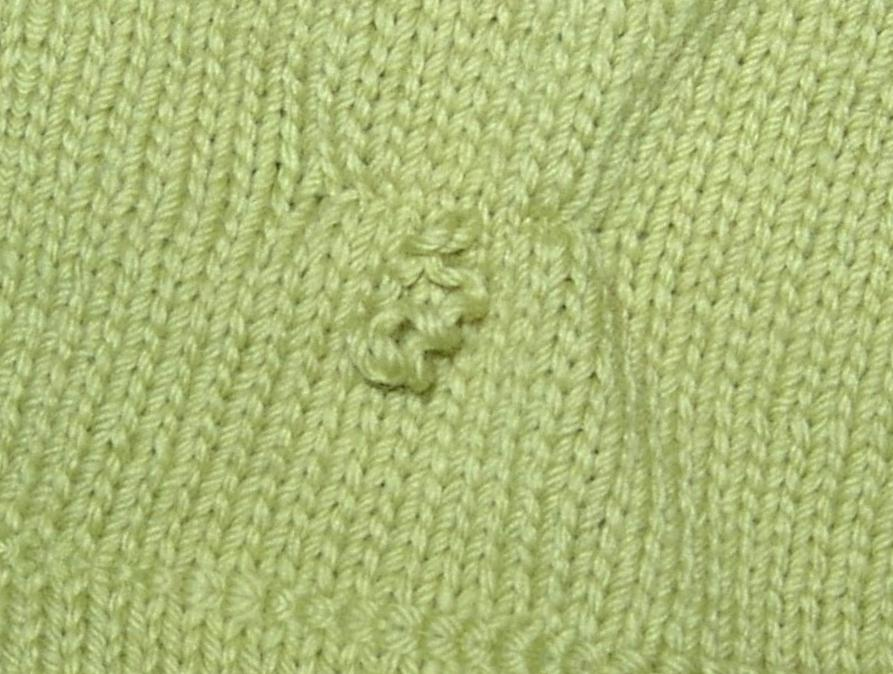knot: (351, 249, 495, 404)
